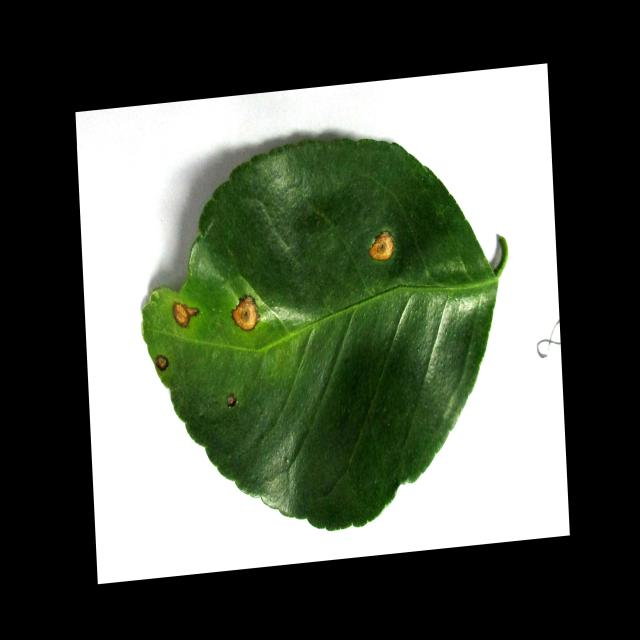antracnose: (141, 139, 506, 529), (232, 295, 259, 331), (369, 231, 394, 261), (173, 302, 199, 328), (155, 355, 168, 371), (227, 393, 237, 408)
